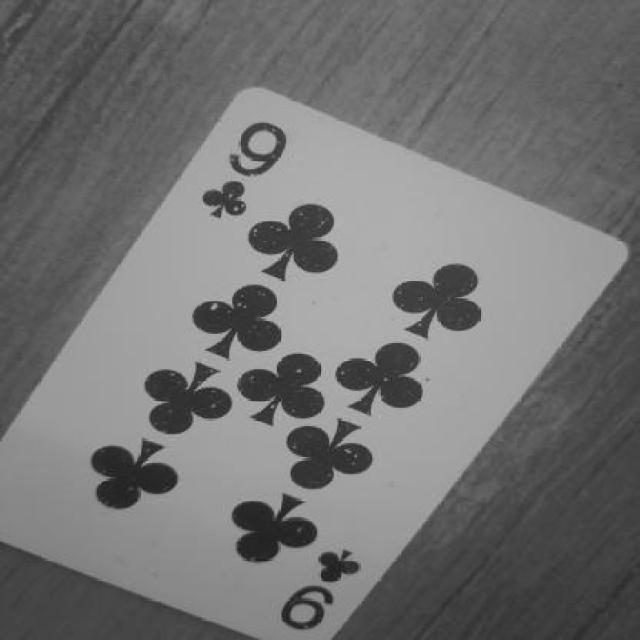9C: (191, 102, 306, 244), (258, 535, 378, 640)
